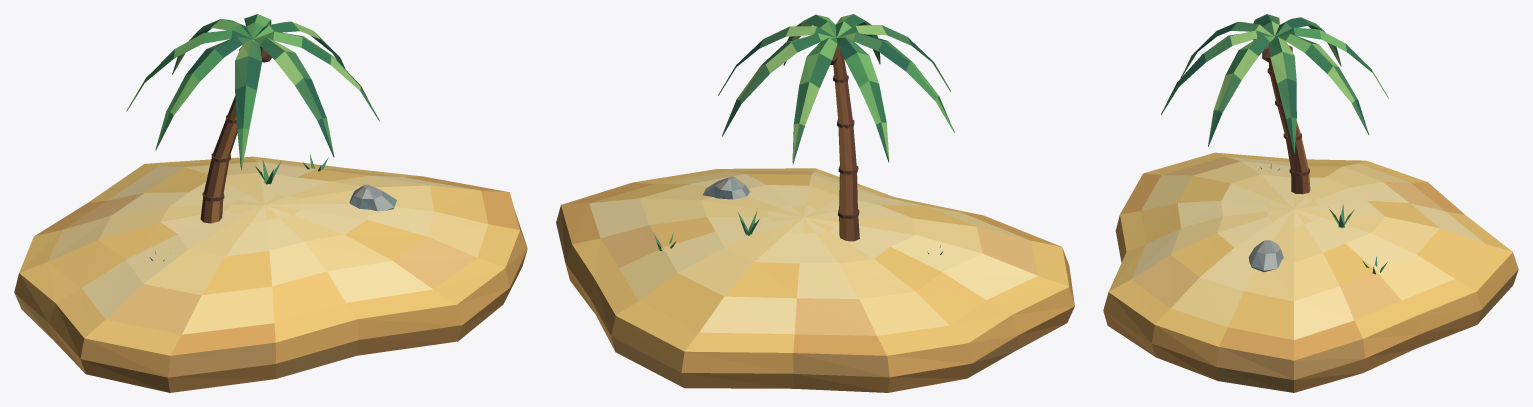
Rendered from Island_01_Palm.obj.
The picture shows the model from 3 angles, left to right: view 1: azimuth 30°, elevation 25°; view 2: azimuth 150°, elevation 25°; view 3: azimuth 270°, elevation 25°; orthographic projection. The views are drawn at different scales.
Visible parts, largest first — view 1: Island_01_Palm; view 2: Island_01_Palm; view 3: Island_01_Palm.
Boxes of the visible parts, x1,y1,x2,y2 form: Island_01_Palm: [14, 14, 527, 392]; Island_01_Palm: [556, 14, 1074, 392]; Island_01_Palm: [1103, 14, 1518, 392].
Bounding box in the file's own units: 10.53 × 5.7 × 8.71.
Materials: 1 (1 with a texture image).
